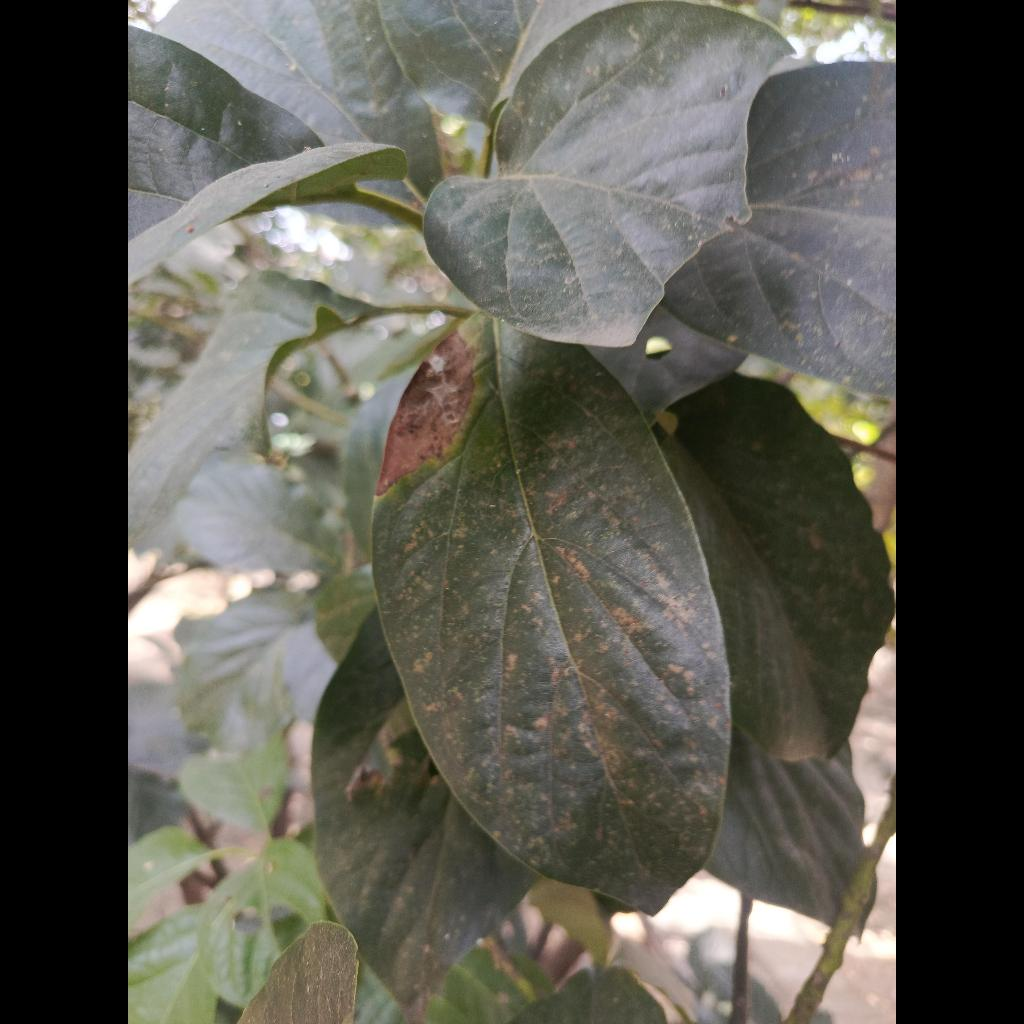antracnosis_hoja: (373, 314, 731, 913)
